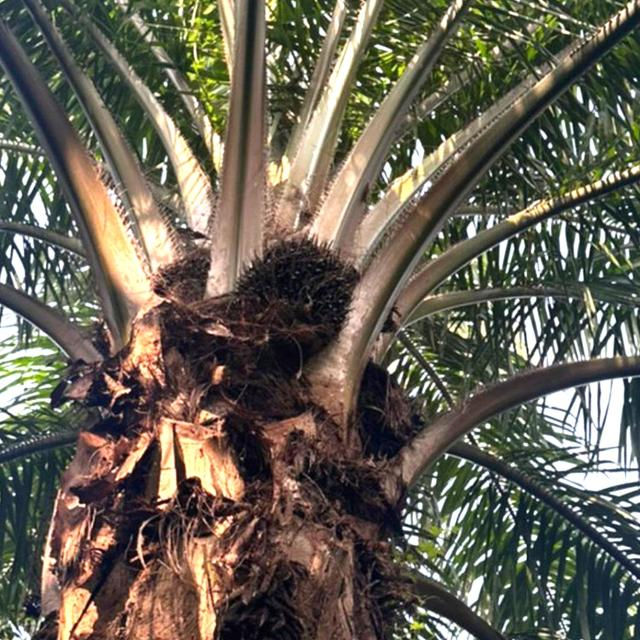unripe: (227, 222, 370, 355)
